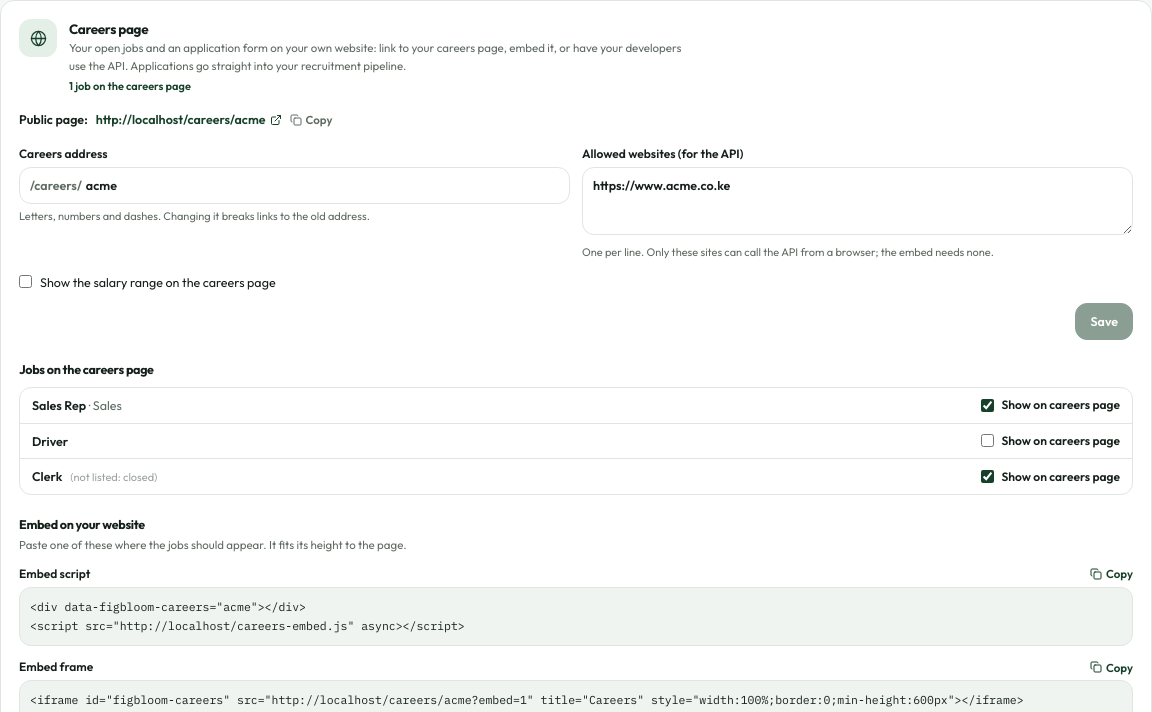
Scenario: Careers page settings card › turns "Show on careers page" on for a posting
This screenshot has width=1152, height=712.
Click the switch named "Show Driver on careers page" at (987, 441), box [980,434,994,447]
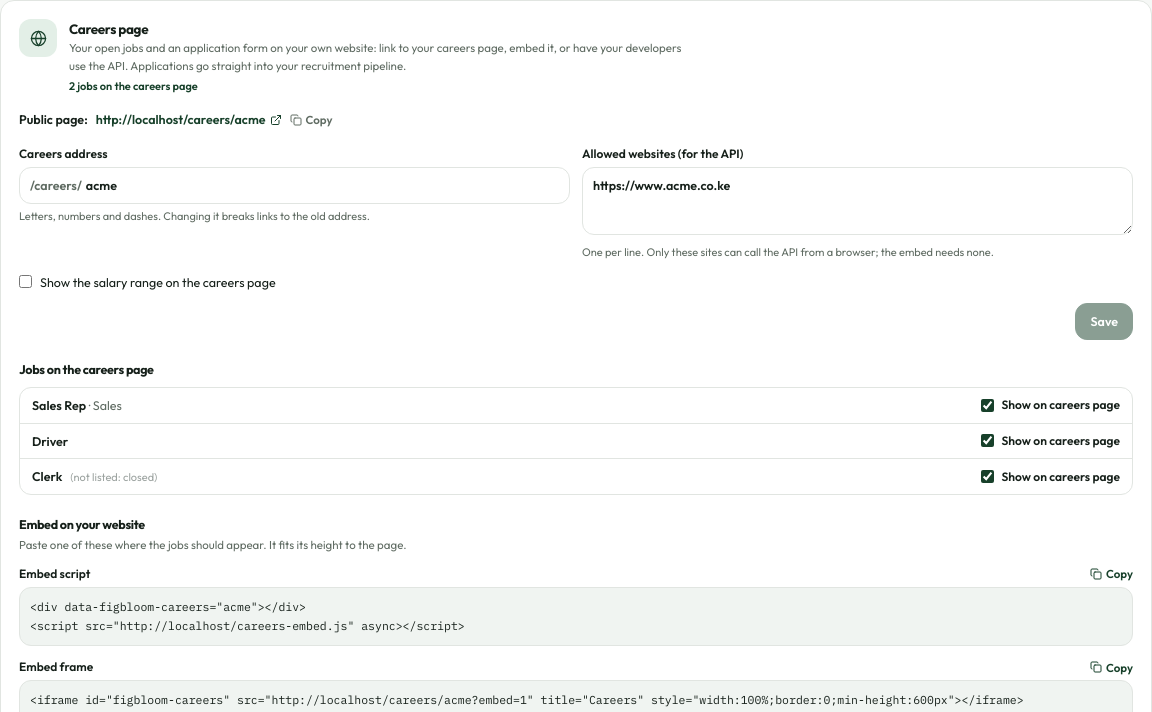
Now the switch named "Show Driver on careers page" is checked, box [980,434,994,447]
Now the text "2 jobs on the careers page" is shown, box [69,79,198,93]
